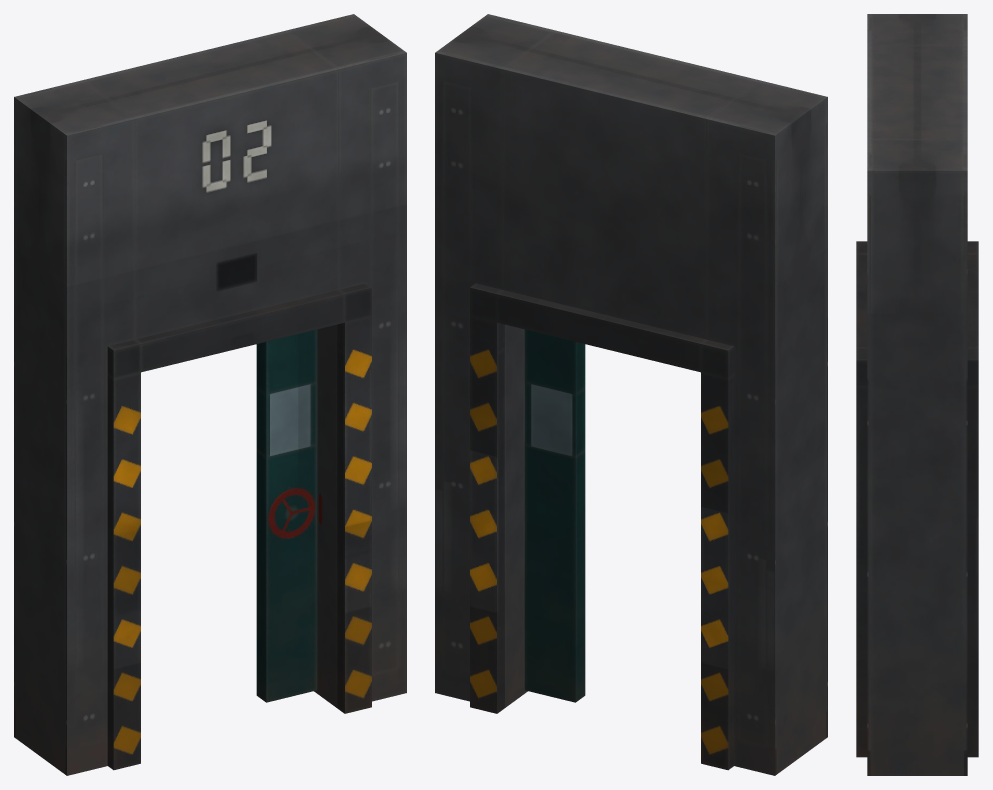
The model's file is airlock_door.glb.
The picture shows the model from 3 angles, left to right: view 1: azimuth 30°, elevation 25°; view 2: azimuth 150°, elevation 25°; view 3: azimuth 270°, elevation 25°; orthographic projection. The views are drawn at different scales.
Visible parts, largest first — view 1: airlock_door; view 2: airlock_door; view 3: airlock_door.
Boxes of the visible parts, x1,y1,x2,y2 form: airlock_door: [14, 14, 406, 775]; airlock_door: [435, 14, 827, 775]; airlock_door: [856, 14, 978, 775].
Bounding box in the file's own units: 2 × 3.6 × 0.66.
1 material, 1 textured.
